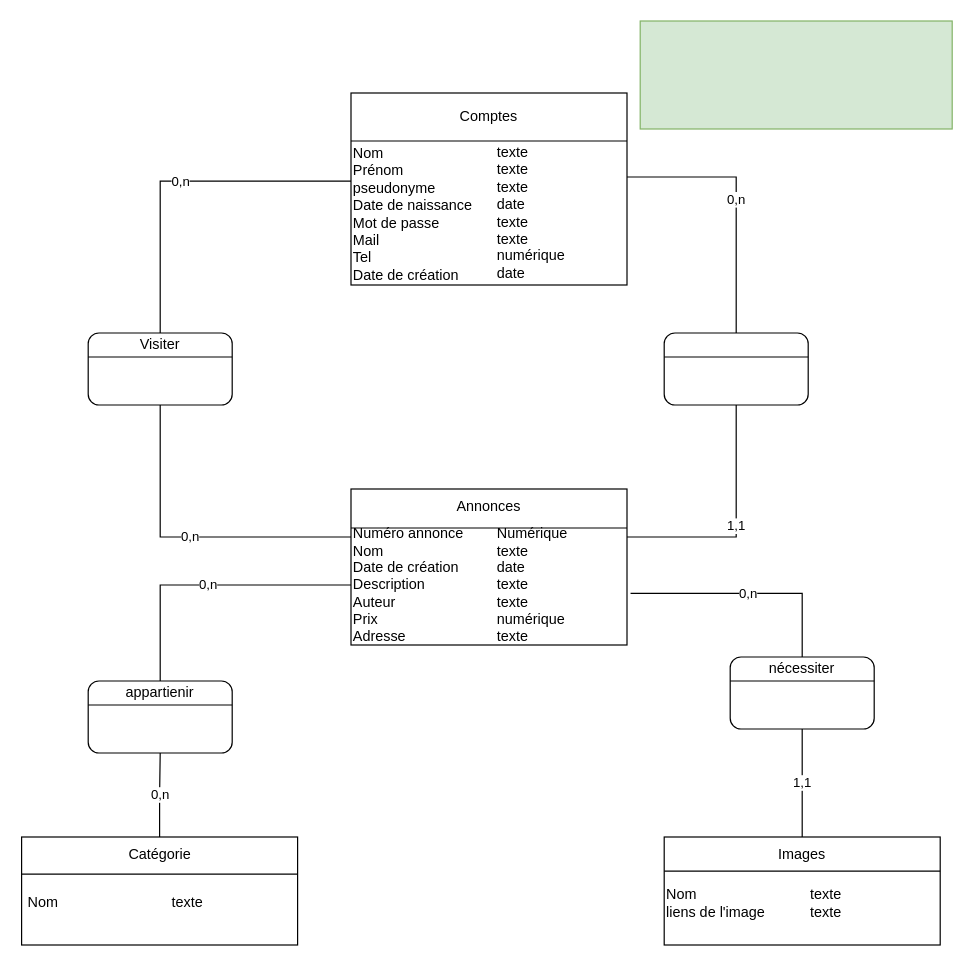
Some shapes in this 973 by 966 pixel diagram are drawn without their labels. The centre of each missing label's shape, as x and y in pixels:
créer: point 735,368
Projet : WEB Auteurs : Benjamin Muminovic Cyprien Jaquier Date : 10.02.2021: point 795,74
